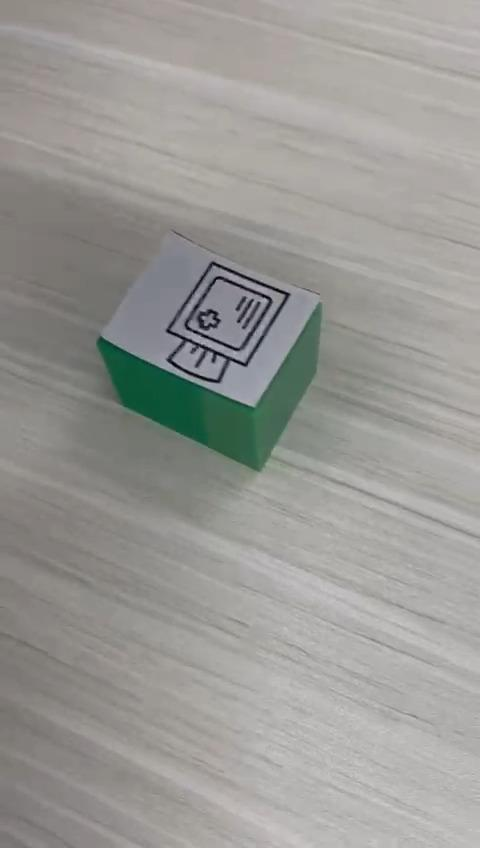Gauze: (95, 228, 323, 472)
